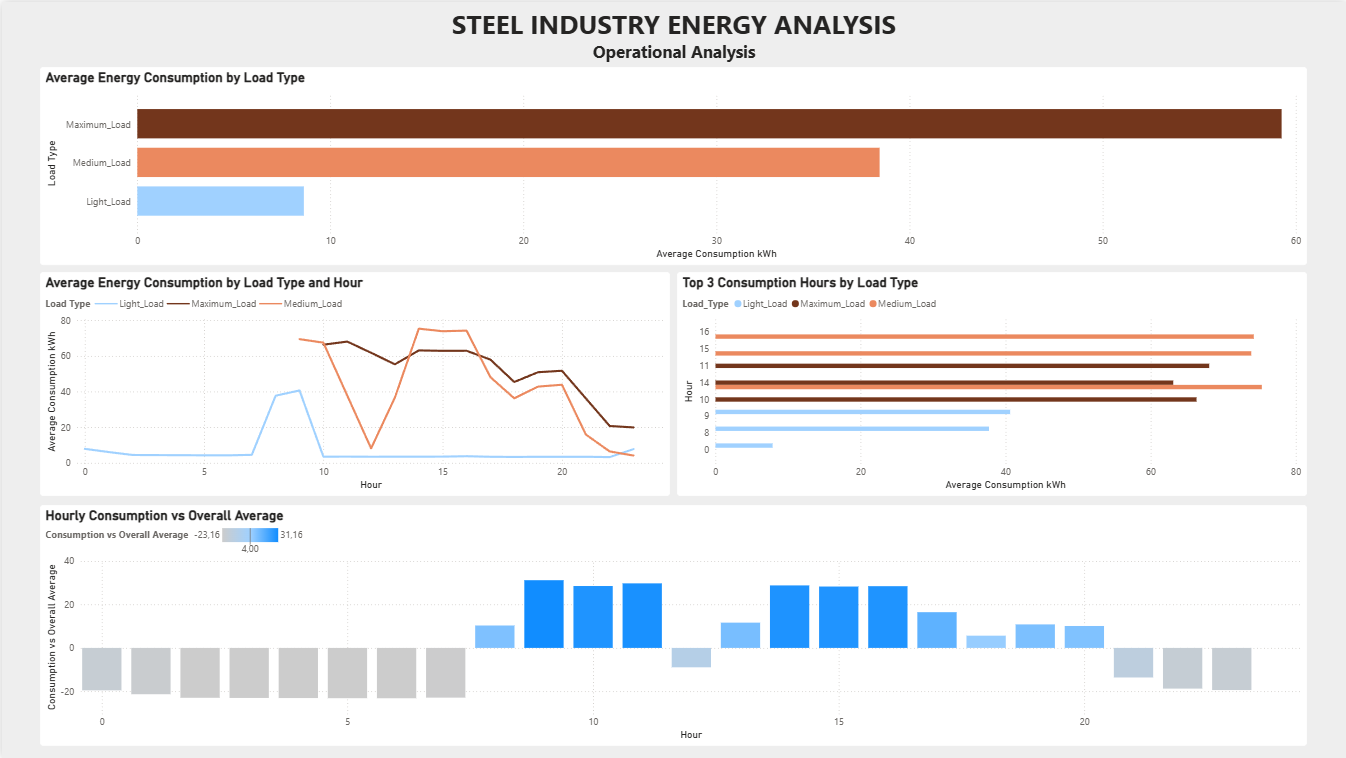

The dashboard page shown, as its layout file describes it:
{"tool":"powerbi","page":{"name":"Operational Analysis","canvas":[1920,1080],"ordinal":2},"visuals":[{"type":"barChart","title":"Average Energy Consumption by Load Type","fields":{"Category":["cleaned_energy_data.Load_Type"],"Y":["cleaned_energy_data.Average Consumption kWh"]},"box":[54.3,92.9,1810,282.9],"z":0},{"type":"lineChart","title":"Average Energy Consumption by Load Type and Hour","fields":{"Category":["cleaned_energy_data.Hour"],"Y":["cleaned_energy_data.Average Consumption kWh"],"Series":["cleaned_energy_data.Load_Type"]},"box":[54.3,385.7,900,320],"z":1000},{"type":"clusteredBarChart","title":"Top 3 Consumption Hours by Load Type","fields":{"Category":["cleaned_energy_data.Hour"],"Y":["cleaned_energy_data.Average Consumption kWh"],"Series":["cleaned_energy_data.Load_Type"]},"box":[964.3,385.7,900,320],"z":2000},{"type":"clusteredColumnChart","title":"Hourly Consumption vs Overall Average","fields":{"Category":["cleaned_energy_data.Hour"],"Y":["cleaned_energy_data.Consumption vs Overall Average"]},"box":[54.3,718.6,1810,344.3],"z":3000},{"type":"textbox","box":[0,0,1920,92.9],"z":4000}]}

Visuals, with their boxes in screenshot pixels (x1, y1, x2, y2), scaled from the page's 1920x1080 canvas onto the 1346x758 screenshot:
"Average Energy Consumption by Load Type" barChart: [x1=38, y1=65, x2=1307, y2=264]
"Average Energy Consumption by Load Type and Hour" lineChart: [x1=38, y1=271, x2=669, y2=495]
"Top 3 Consumption Hours by Load Type" clusteredBarChart: [x1=676, y1=271, x2=1307, y2=495]
"Hourly Consumption vs Overall Average" clusteredColumnChart: [x1=38, y1=504, x2=1307, y2=746]
textbox: [x1=0, y1=0, x2=1345, y2=65]
